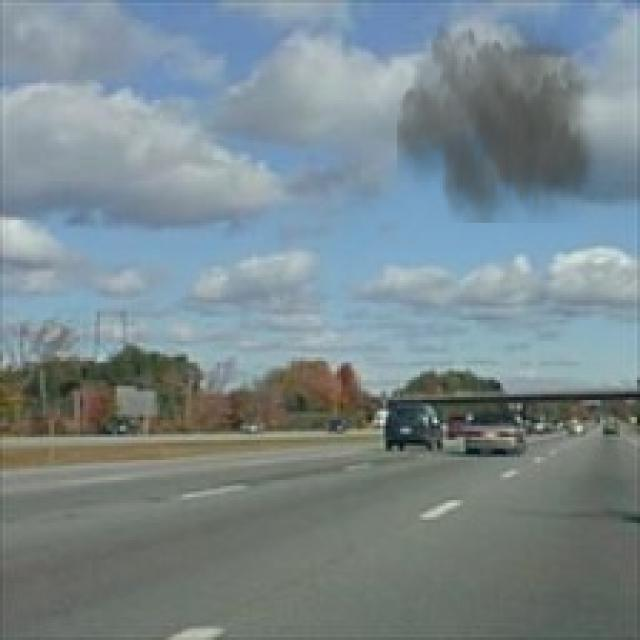smoke: (397, 0, 603, 223)
